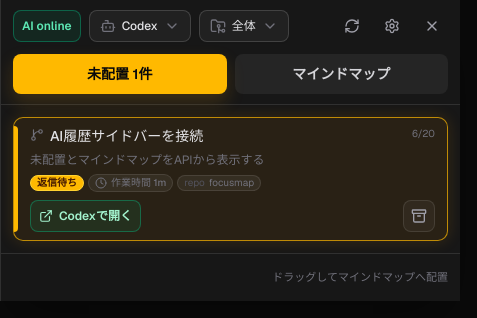
Scenario: CodexChatImportSidebar › merges current project, saved scope, and Codex repo count into one clean repo option
Click the button "全体" at [244, 26], box [199,10,289,42]
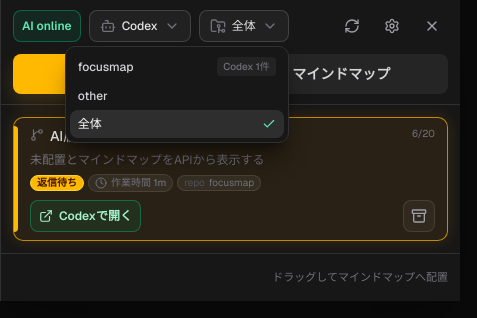
Now the element with id "ai-history-scope-filter" is shown, box [65,46,289,143]
Now the text "focusmap" is shown once, box [78,58,134,74]
Now the text "Codex 1件" is shown, box [217,57,276,76]
